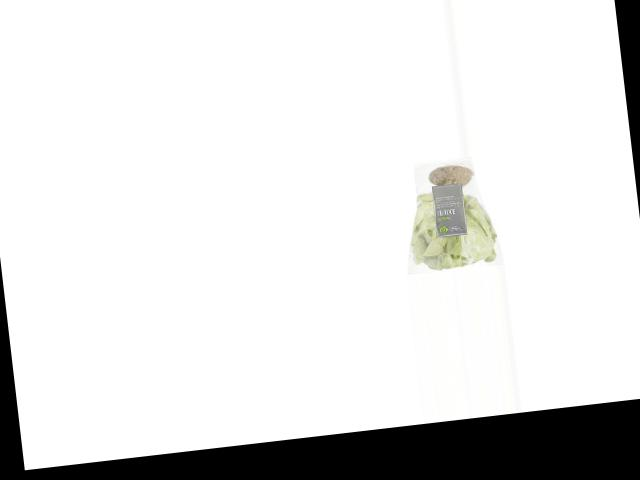lettuce: (397, 154, 503, 274)
